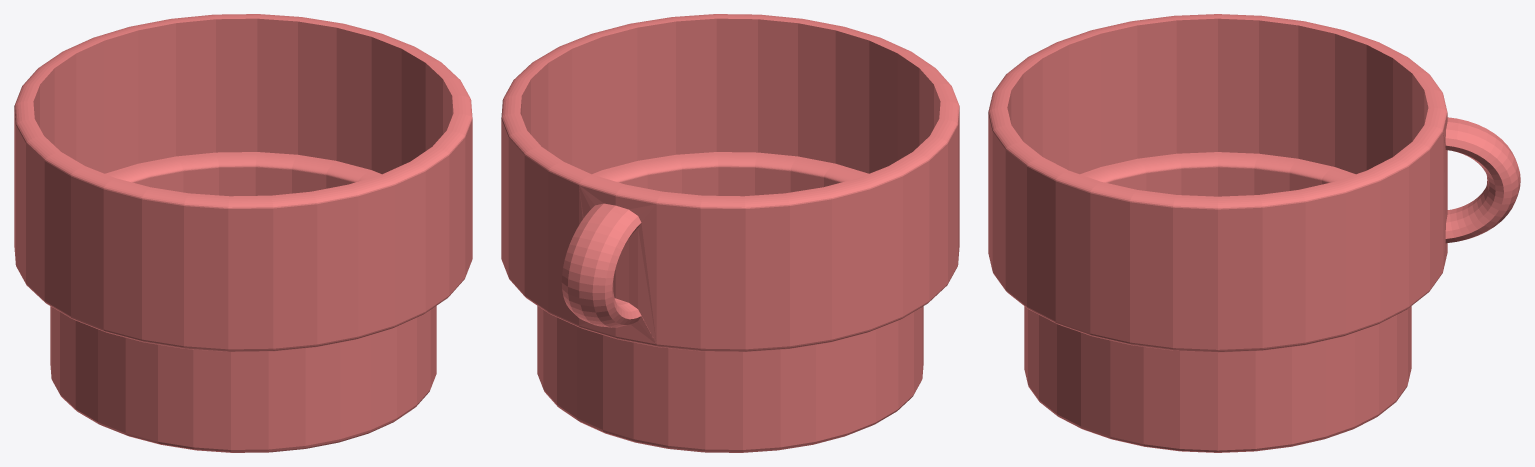
The model's file is measuring_cup_2_v000.glb.
3 renders of one model, left to right at view 1: azimuth 30°, elevation 25°; view 2: azimuth 150°, elevation 25°; view 3: azimuth 270°, elevation 25°, orthographic.
Visible parts, largest first — view 1: Torus_0; view 2: Torus_0; view 3: Torus_0.
Boxes of the visible parts, x1,y1,x2,y2 form: Torus_0: (14,14,472,452); Torus_0: (501,14,959,452); Torus_0: (988,14,1520,452).
Size of the model in its own units: 0.2372 by 0.1521 by 0.275.
